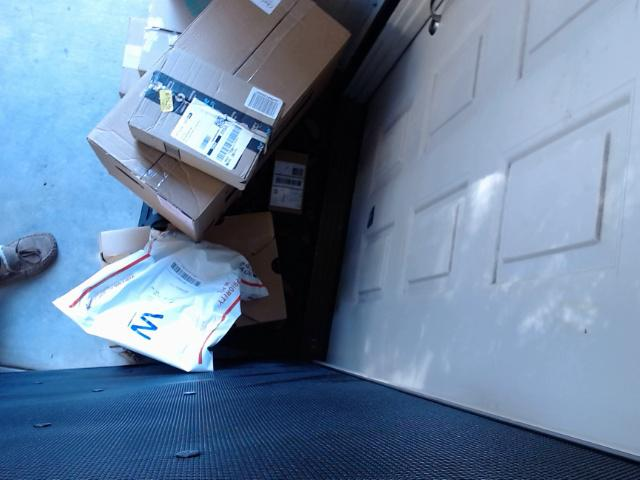box: (106, 3, 352, 222), (96, 220, 295, 331), (138, 44, 278, 188), (258, 150, 324, 220)
plastic_bag: (48, 235, 259, 374)
